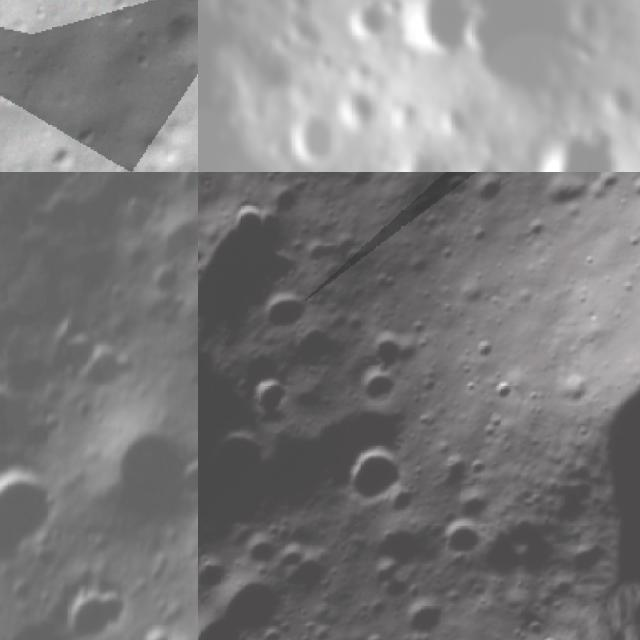crater: (75, 403, 198, 555), (0, 449, 75, 582), (330, 430, 425, 526), (349, 504, 437, 592), (61, 327, 146, 418), (46, 569, 137, 640), (215, 565, 299, 640), (338, 350, 414, 427), (39, 312, 111, 390), (532, 117, 624, 172), (248, 274, 319, 345), (405, 0, 479, 66), (526, 172, 606, 230), (142, 0, 198, 82), (220, 187, 287, 255), (139, 197, 198, 274), (428, 506, 493, 571), (241, 365, 305, 429), (392, 583, 459, 640), (229, 527, 290, 589), (138, 250, 197, 310), (290, 114, 342, 165), (342, 0, 393, 45), (457, 172, 506, 217), (379, 143, 446, 172), (198, 559, 232, 605), (125, 616, 178, 640), (283, 0, 320, 16)
